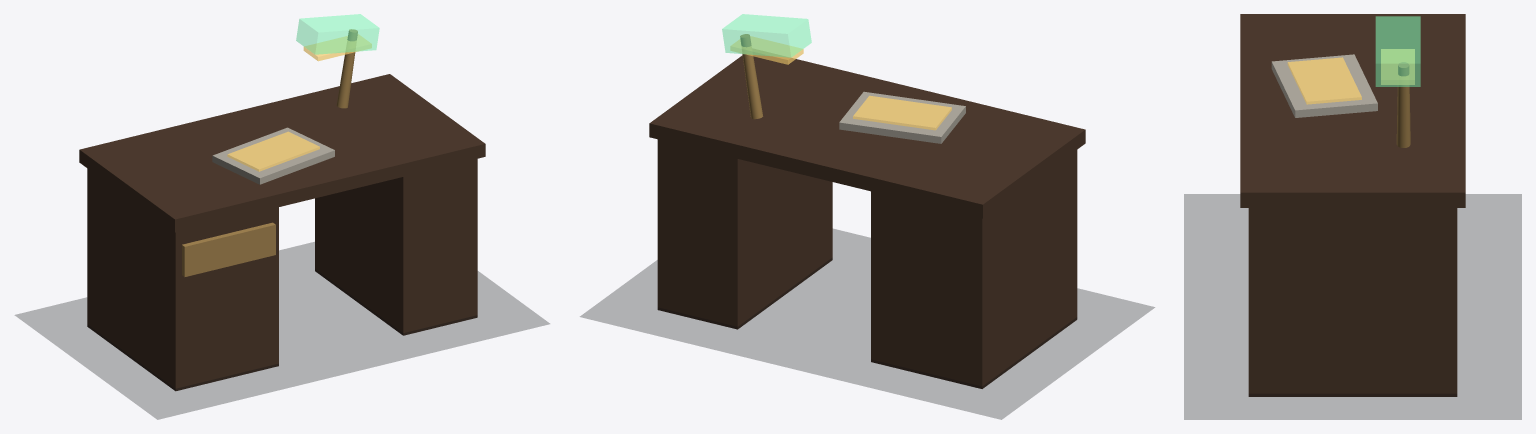
Rendered from hp_room_rm_museum_curator_desk.glb.
3 renders of one model, left to right at view 1: azimuth 30°, elevation 25°; view 2: azimuth 150°, elevation 25°; view 3: azimuth 270°, elevation 25°, orthographic. The views are drawn at different scales.
Visible parts, largest first — view 1: desk_top, desk_side_l, contact_shadow, desk_side_r, ledger_open, drawer_face, lamp_shade, ledger_lines, lamp_glow, lamp_stem; view 2: desk_side_l, desk_top, contact_shadow, desk_side_r, ledger_open, lamp_shade, ledger_lines, lamp_glow, lamp_stem; view 3: desk_side_r, desk_top, contact_shadow, ledger_open, lamp_shade, ledger_lines, lamp_glow, lamp_stem.
Part boxes in pixels (x1,y1,x2,y2): desk_top: [79, 74, 485, 232]; desk_side_l: [87, 168, 278, 391]; contact_shadow: [15, 242, 549, 419]; desk_side_r: [315, 159, 477, 335]; ledger_open: [212, 127, 334, 184]; drawer_face: [182, 222, 275, 276]; lamp_shade: [296, 14, 379, 54]; ledger_lines: [227, 131, 319, 171]; lamp_glow: [303, 34, 371, 61]; lamp_stem: [336, 29, 357, 108]; desk_side_l: [871, 150, 1077, 388]; desk_top: [649, 55, 1085, 218]; contact_shadow: [580, 229, 1154, 419]; desk_side_r: [657, 139, 832, 329]; ledger_open: [839, 91, 965, 143]; lamp_shade: [722, 14, 811, 57]; ledger_lines: [853, 95, 951, 130]; lamp_glow: [730, 36, 803, 64]; lamp_stem: [740, 34, 763, 119]; desk_side_r: [1248, 208, 1457, 396]; desk_top: [1240, 14, 1465, 207]; contact_shadow: [1184, 194, 1521, 419]; ledger_open: [1271, 54, 1377, 117]; lamp_shade: [1375, 16, 1420, 86]; ledger_lines: [1287, 57, 1361, 104]; lamp_glow: [1381, 49, 1414, 84]; lamp_stem: [1396, 62, 1410, 147].
Size of the model in its own units: 1.9 by 1.25 by 1.2.
